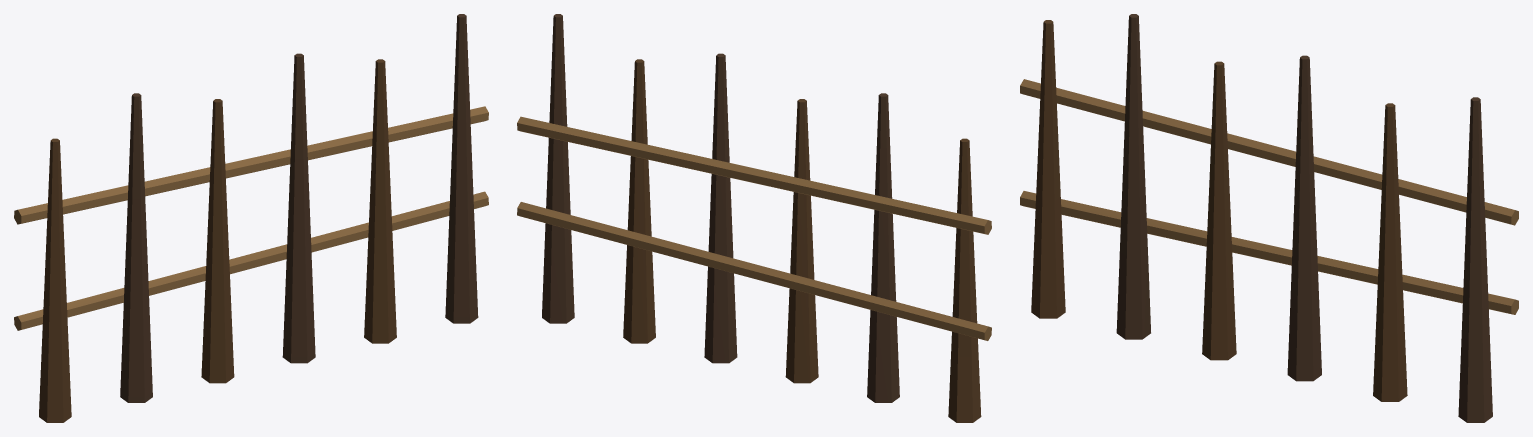
File: Fence.fbx
The picture shows the model from 3 angles, left to right: view 1: azimuth 30°, elevation 25°; view 2: azimuth 150°, elevation 25°; view 3: azimuth 330°, elevation 25°; orthographic projection. The views are drawn at different scales.
Visible parts, largest first — view 1: Fence; view 2: Fence; view 3: Fence.
Boxes of the visible parts, x1,y1,x2,y2 form: Fence: (14, 14, 488, 422); Fence: (517, 14, 991, 422); Fence: (1020, 14, 1518, 422).
Size of the model in its own units: 2.3 by 1.42 by 0.1603.
